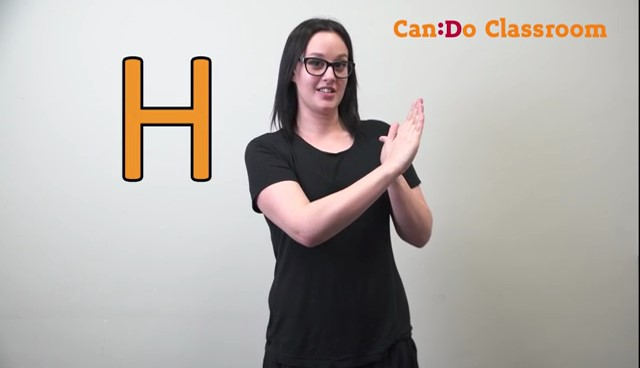H: (369, 92, 435, 186)
